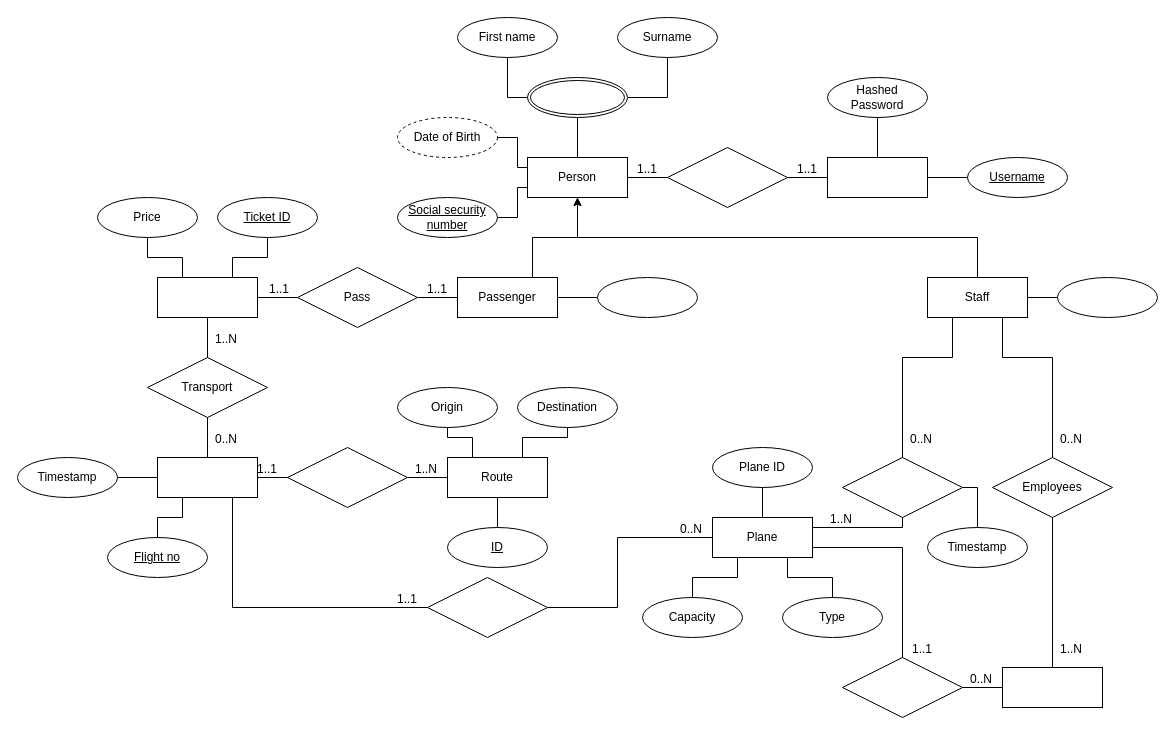
Image size: 1175x735. Some labels were removed from this diagram. The shapes that lost their labels are listed below. From the top down, each one's centre as x and y in pixels, then its label:
point 577,97: Name
point 727,177: Credentials
point 877,177: Login
point 207,297: Ticket
point 647,297: Frequent flier miles
point 1107,297: Position
point 207,477: Flight
point 347,477: Route flights
point 902,487: Worker
point 487,607: Plane operating flight
point 902,687: Fleet
point 1052,687: Company
